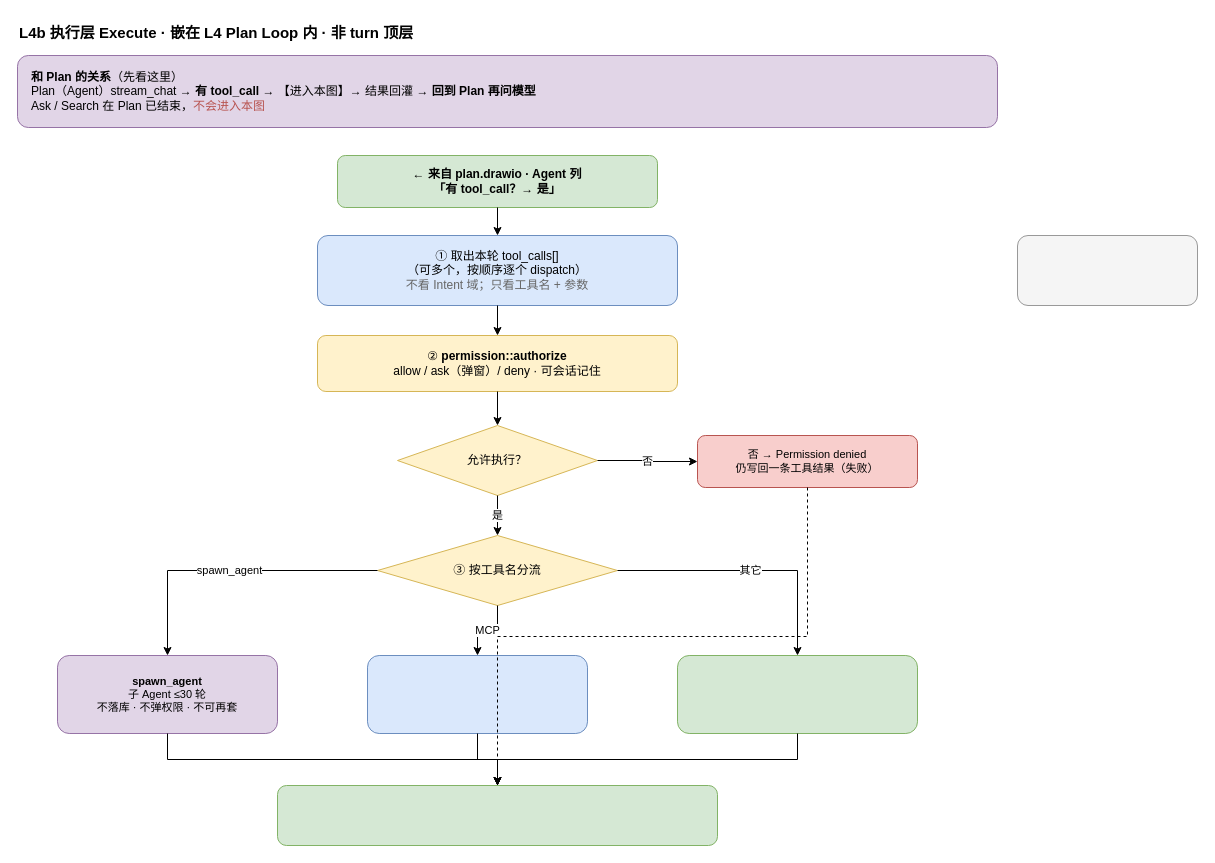
This 1215x863 diagram has some shape labels left out. The shapes that lost their labels are listed below. From the top down, each one's centre as x and y in pixels, then its label:
[1107,270]: 不会进本图 Ask / Search （Plan 侧 tools=[]）
[477,694]: MCP 工具 mcp.call_tool 超时保护
[797,694]: 内置工具 bash / read / write / fetch… 限制在 workspace
[497,815]: ④ ToolResult 回灌 api_messages → 回到 L4 plan · Agent Loop 下一圈 （再 stream_chat）
